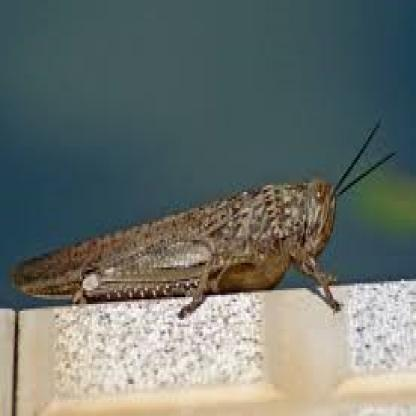grasshopper: (8, 124, 399, 316)
